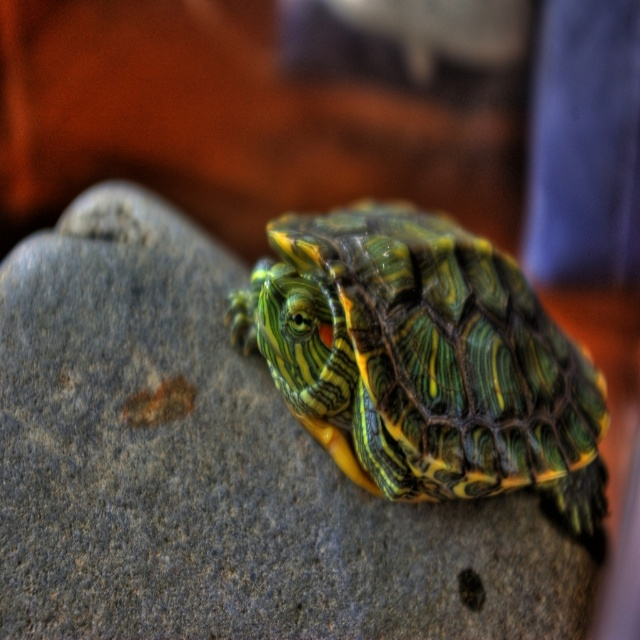Sea turtle: (223, 194, 612, 568)
